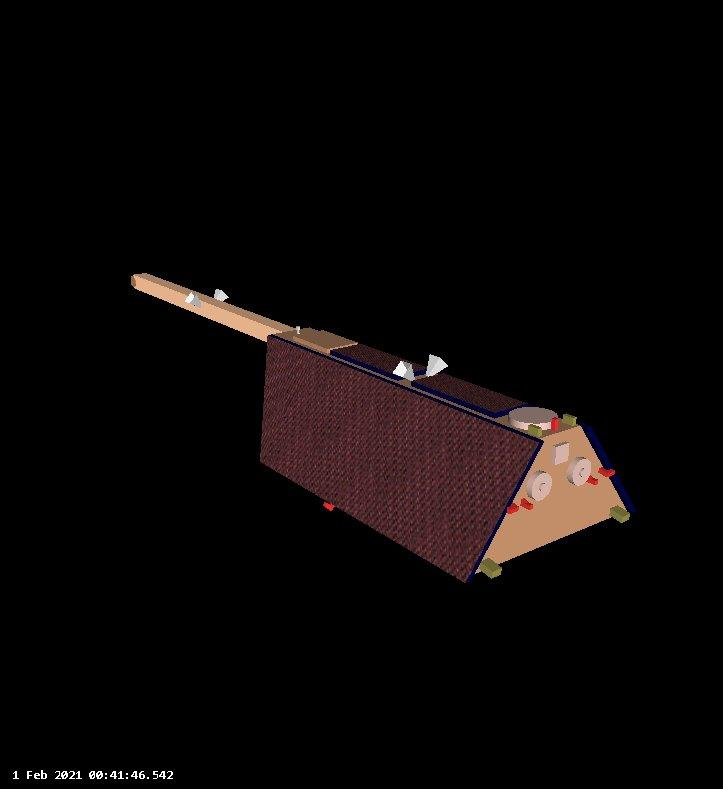body: (254, 317, 637, 586)
solar: (256, 328, 547, 582), (409, 371, 532, 421), (328, 340, 431, 382)
thruster: (423, 353, 450, 378), (390, 359, 417, 383), (183, 290, 203, 309), (212, 288, 230, 302)
